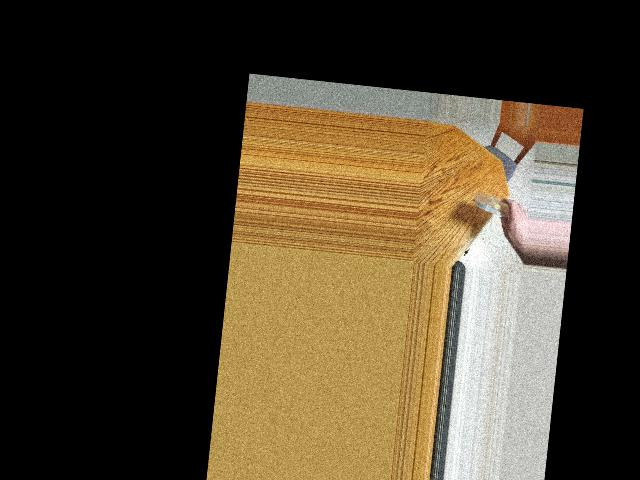cheese: (477, 188, 512, 220)
